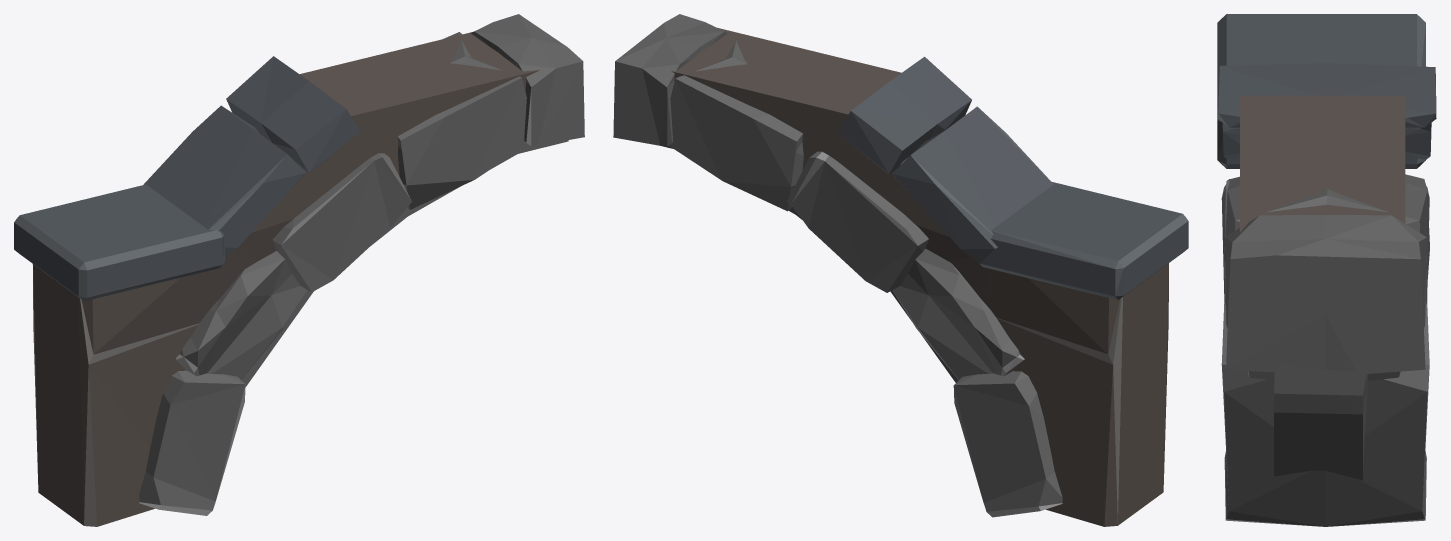
File: MCastle_ArchArm_02.FBX
3 views of the same model, side by side, from view 1: azimuth 30°, elevation 25°; view 2: azimuth 150°, elevation 25°; view 3: azimuth 270°, elevation 25° (orthographic). The views are drawn at different scales.
Parts seen in each view (by area): view 1: MCastle_ArchArm_02_Bricks_LOD0; view 2: MCastle_ArchArm_02_Bricks_LOD0; view 3: MCastle_ArchArm_02_Bricks_LOD0.
Part boxes in pixels (x1,y1,x2,y2): MCastle_ArchArm_02_Bricks_LOD0: (14, 14, 584, 526); MCastle_ArchArm_02_Bricks_LOD0: (613, 14, 1188, 526); MCastle_ArchArm_02_Bricks_LOD0: (1217, 14, 1436, 526).
Size of what is drawn, in the model's own units: 4.91 by 3.5 by 1.25.
